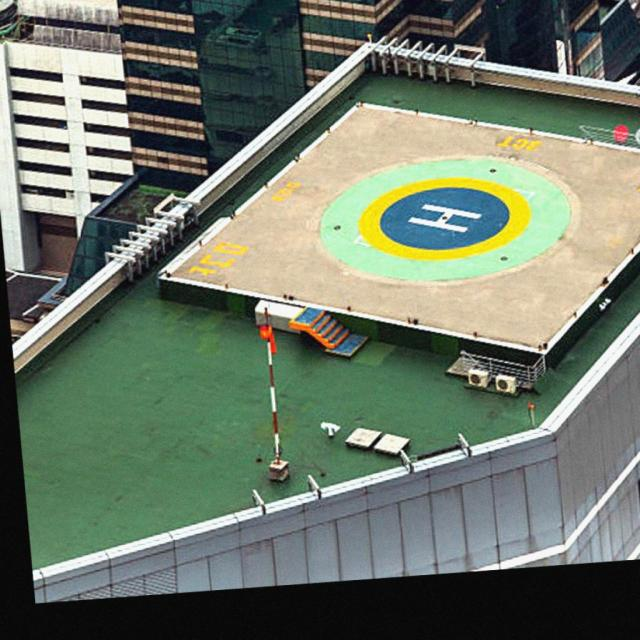helipad: (353, 176, 534, 266)
